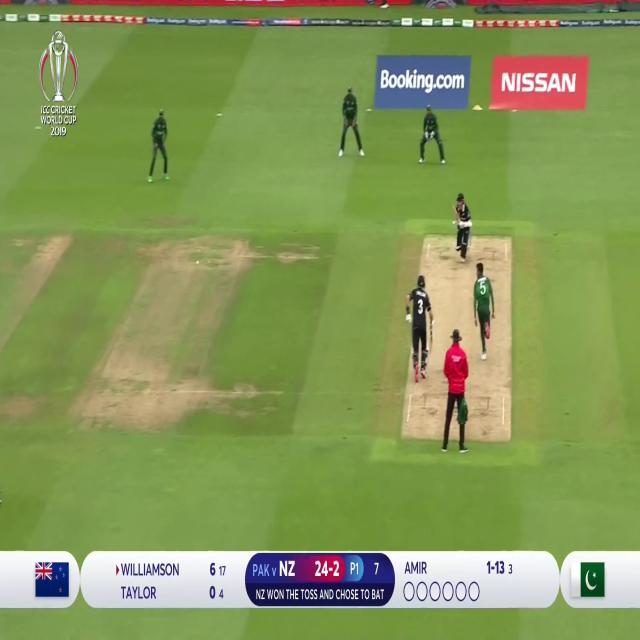bat: (452, 204, 461, 226), (428, 320, 433, 355)
